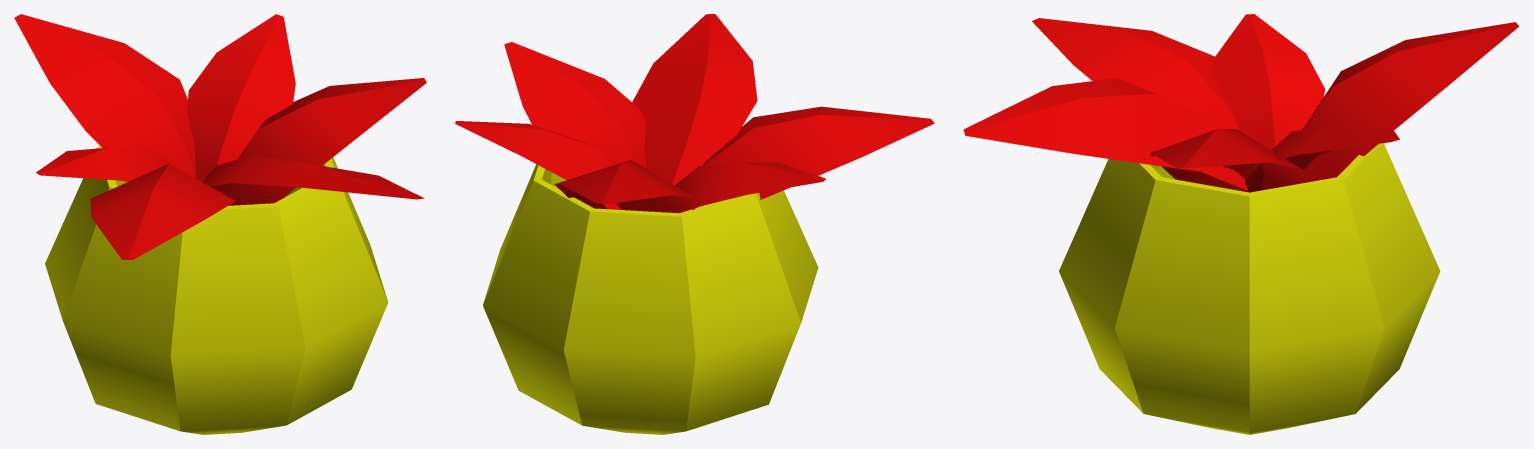
The model's file is Mini_PlantPots.fbx.
3 renders of one model, left to right at view 1: azimuth 30°, elevation 25°; view 2: azimuth 150°, elevation 25°; view 3: azimuth 270°, elevation 25°, orthographic. The views are drawn at different scales.
Parts seen in each view (by area): view 1: polySurface133; view 2: polySurface133; view 3: polySurface133.
Part boxes in pixels (box(x1,y1,x2,y2)): polySurface133: box(14, 14, 426, 434); polySurface133: box(455, 14, 934, 434); polySurface133: box(963, 14, 1519, 434).
Bounding box in the file's own units: 1.85 × 1.55 × 2.23.
